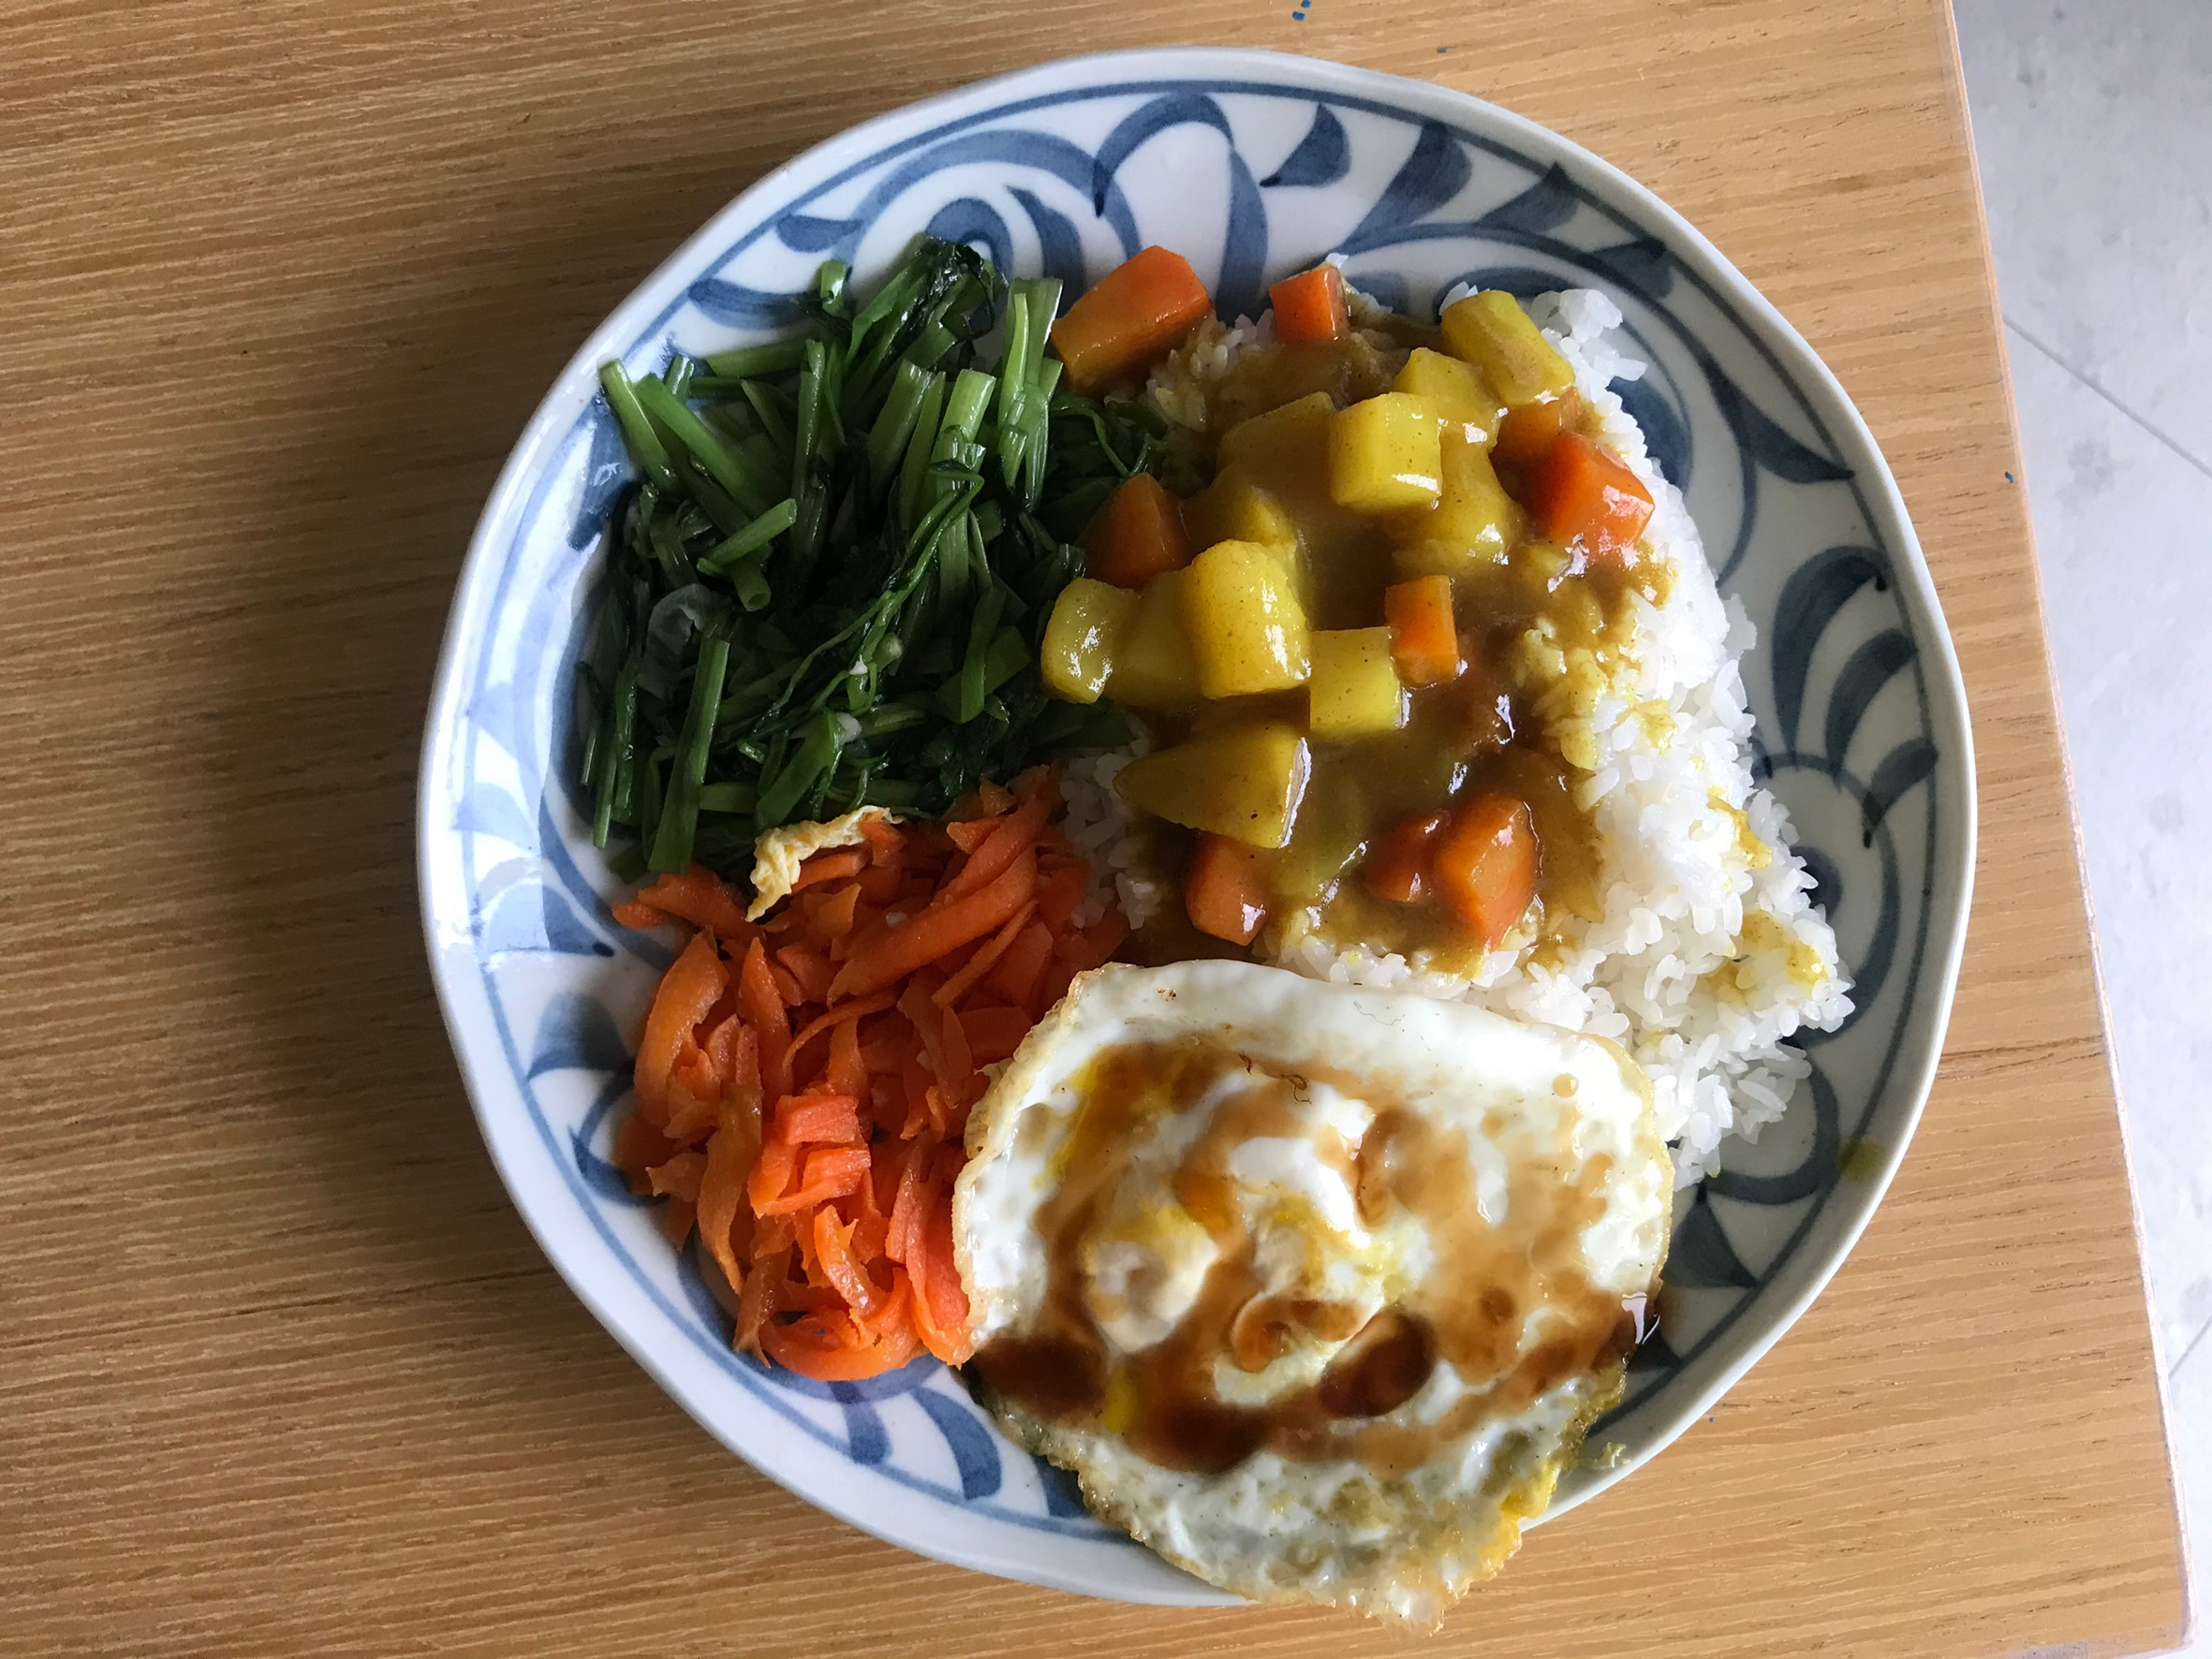carrot_eggs: (624, 779, 1063, 1385)
curry: (1074, 244, 1609, 962)
fried_eggs: (943, 958, 1679, 1636)
rice: (1614, 471, 1813, 1039)
water_spinach: (614, 240, 1056, 755)
